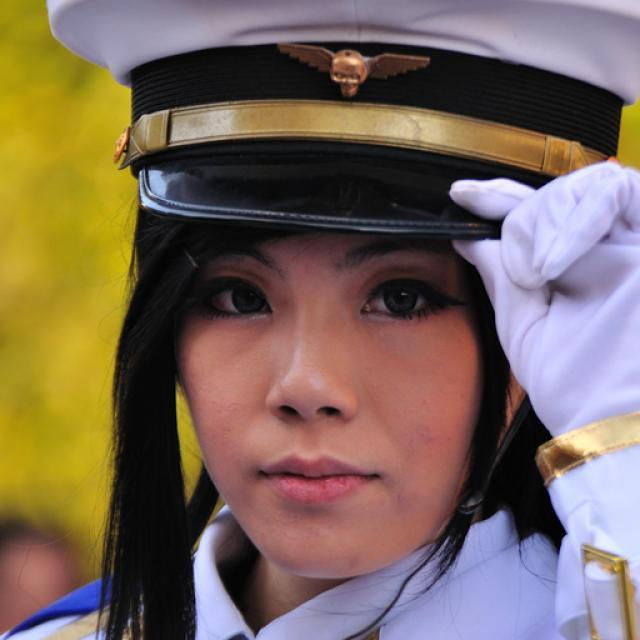neutral: (176, 196, 485, 572)
